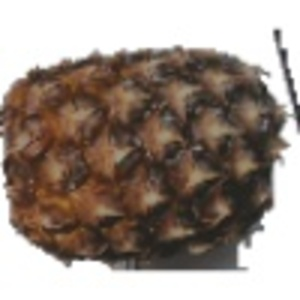abacaxi: (3, 45, 294, 253)
